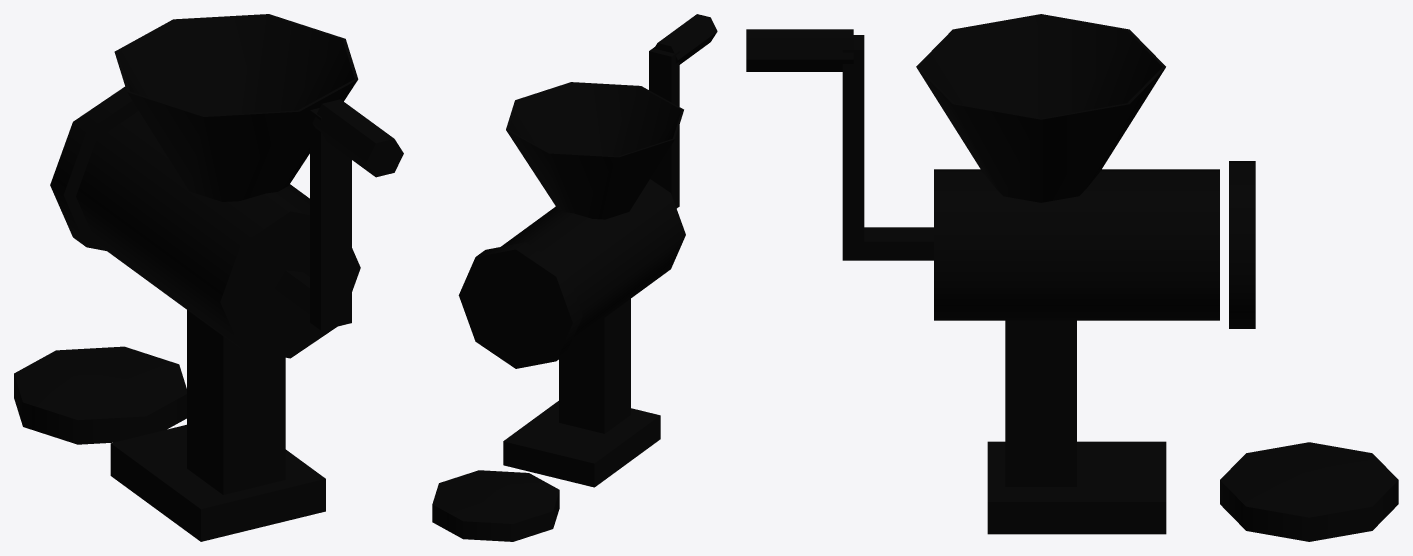
The model's file is SM_meat_grinder.fbx.
3 renders of one model, left to right at view 1: azimuth 30°, elevation 25°; view 2: azimuth 150°, elevation 25°; view 3: azimuth 270°, elevation 25°, orthographic. The views are drawn at different scales.
Parts seen in each view (by area): view 1: meat_grinder, meat_grinder_crank; view 2: meat_grinder, meat_grinder_crank; view 3: meat_grinder, meat_grinder_crank.
Part boxes in pixels (<box>): meat_grinder: <box>14,14,360,541</box>; meat_grinder_crank: <box>275,99,403,330</box>; meat_grinder: <box>432,82,685,541</box>; meat_grinder_crank: <box>649,14,717,208</box>; meat_grinder: <box>916,14,1398,541</box>; meat_grinder_crank: <box>746,29,933,260</box>.
Bounding box in the file's own units: 0.14 × 0.2904 × 0.365.
